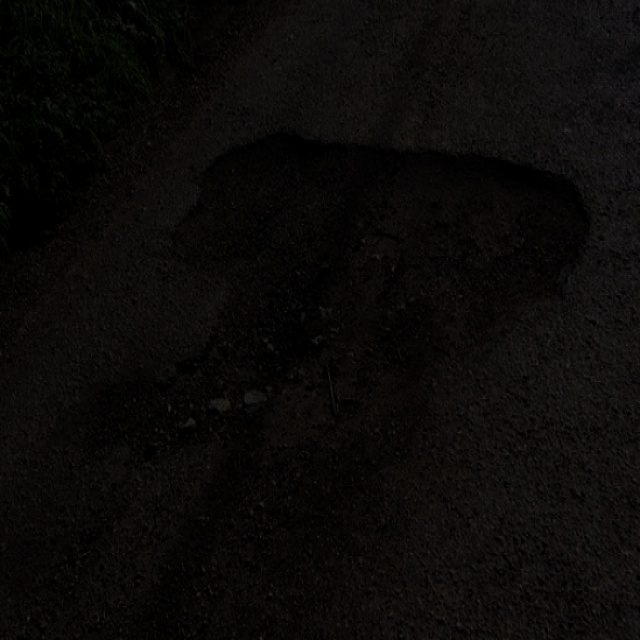Pothole: (147, 122, 591, 450)
